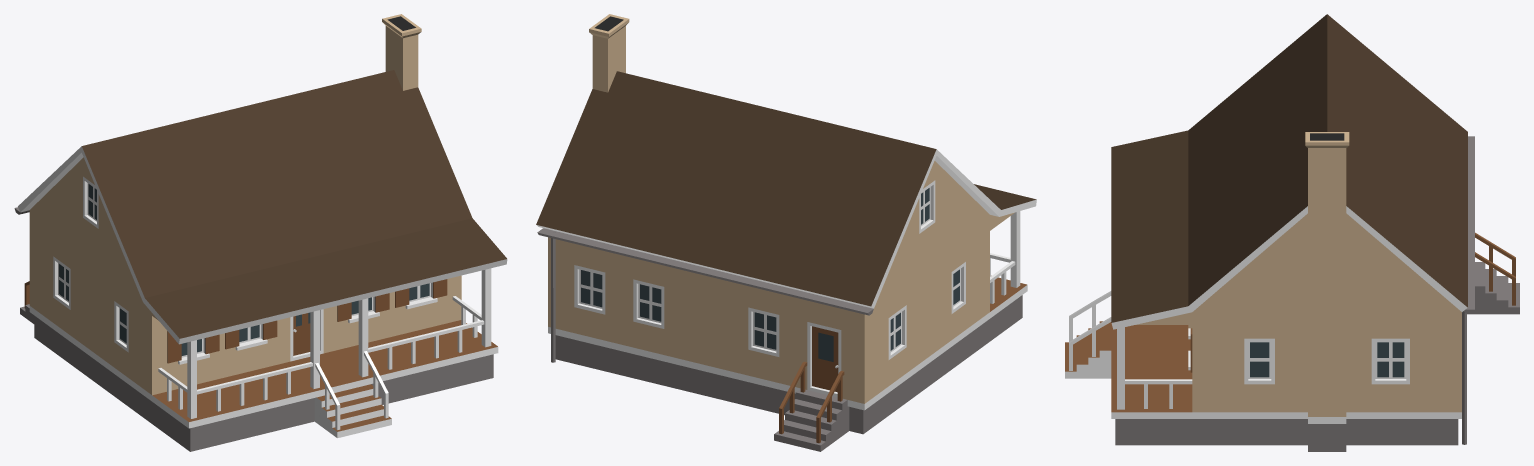
File: buildings_building-house-family-small.fbx
3 renders of one model, left to right at view 1: azimuth 30°, elevation 25°; view 2: azimuth 150°, elevation 25°; view 3: azimuth 270°, elevation 25°, orthographic. The views are drawn at different scales.
Parts seen in each view (by area): view 1: buildings_building_house_family_small; view 2: buildings_building_house_family_small; view 3: buildings_building_house_family_small.
Part boxes in pixels (x1=…): buildings_building_house_family_small: x1=14, y1=14, x2=507, y2=451; buildings_building_house_family_small: x1=536, y1=14, x2=1036, y2=451; buildings_building_house_family_small: x1=1065, y1=14, x2=1519, y2=451.
Bounding box in the file's own units: 184 × 151 × 200.
